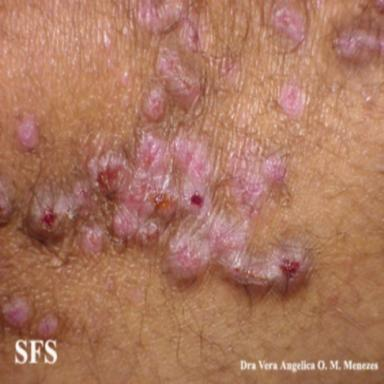Epidermolysis-Bullosa-Pruriginosa: (24, 131, 309, 285), (142, 47, 203, 122), (136, 0, 204, 51), (332, 0, 384, 64), (270, 1, 307, 50), (2, 296, 32, 328), (278, 82, 305, 117), (216, 52, 240, 90), (0, 177, 14, 225), (18, 117, 38, 149), (37, 314, 59, 338)
